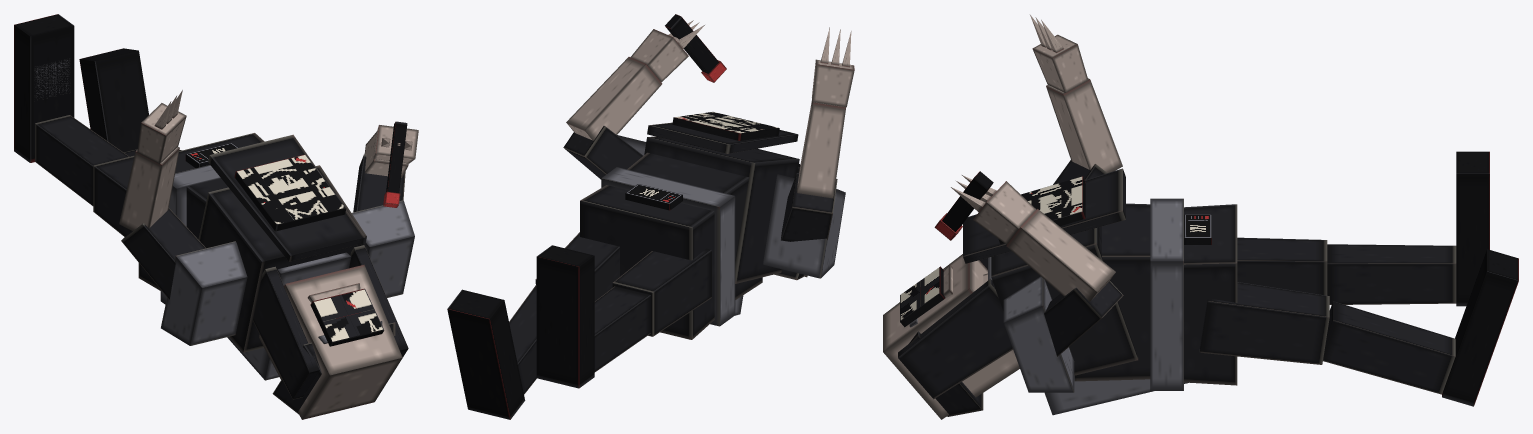
File: redacth_hurt.obj
3 renders of one model, left to right at view 1: azimuth 30°, elevation 25°; view 2: azimuth 150°, elevation 25°; view 3: azimuth 270°, elevation 25°, orthographic. The views are drawn at different scales.
Parts seen in each view (by area): view 1: redacth_hurt; view 2: redacth_hurt; view 3: redacth_hurt.
Boxes of the visible parts, x1,y1,x2,y2 form: redacth_hurt: (14,14,418,419); redacth_hurt: (447,14,854,419); redacth_hurt: (883,15,1518,419).
Bounding box in the file's own units: 0.5592 × 0.6004 × 1.05.
Materials: 1 (1 with a texture image).
